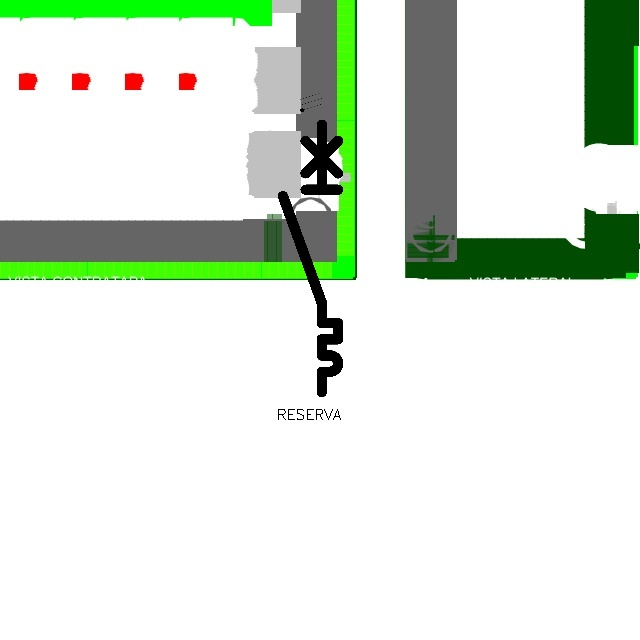interruptor_termomagnetico: (276, 117, 345, 398)
